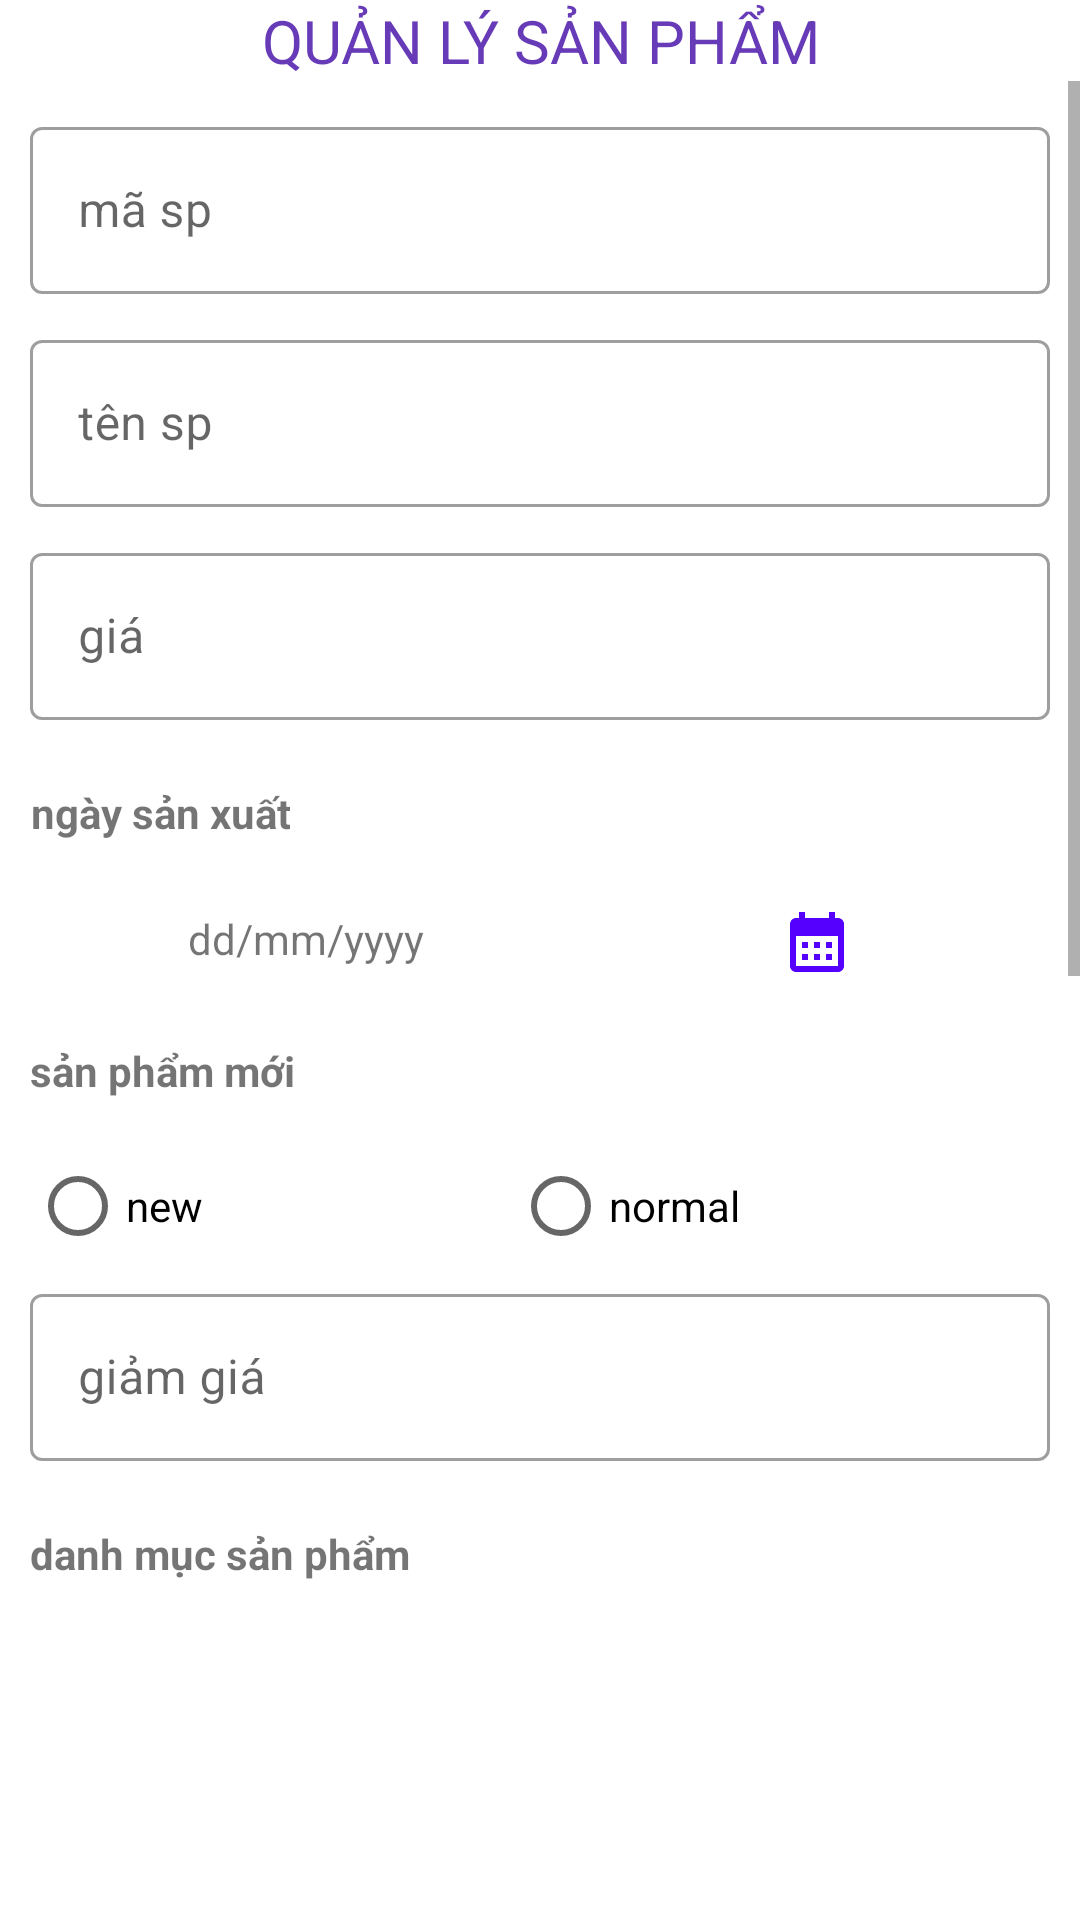

Locate icon controls on the screen. Image size 1080w x 1920h, boxes as (x1, y1, x2, y2).
calendar month: (790, 912, 844, 972)
